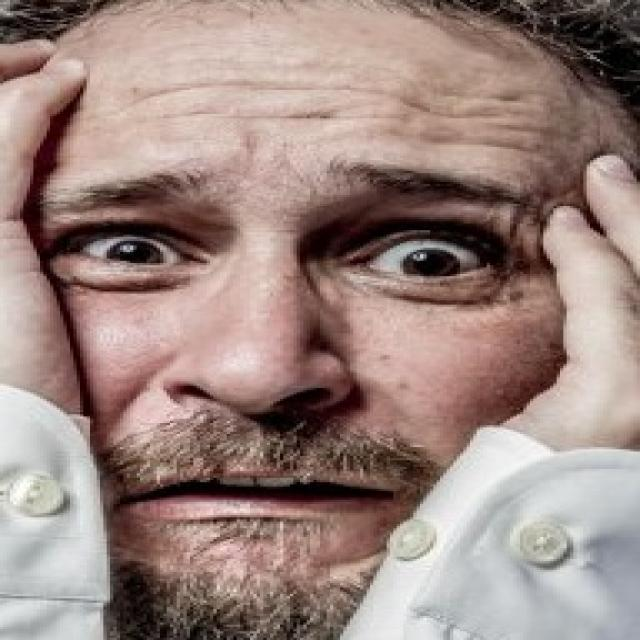Anxiety: (31, 2, 628, 614)
